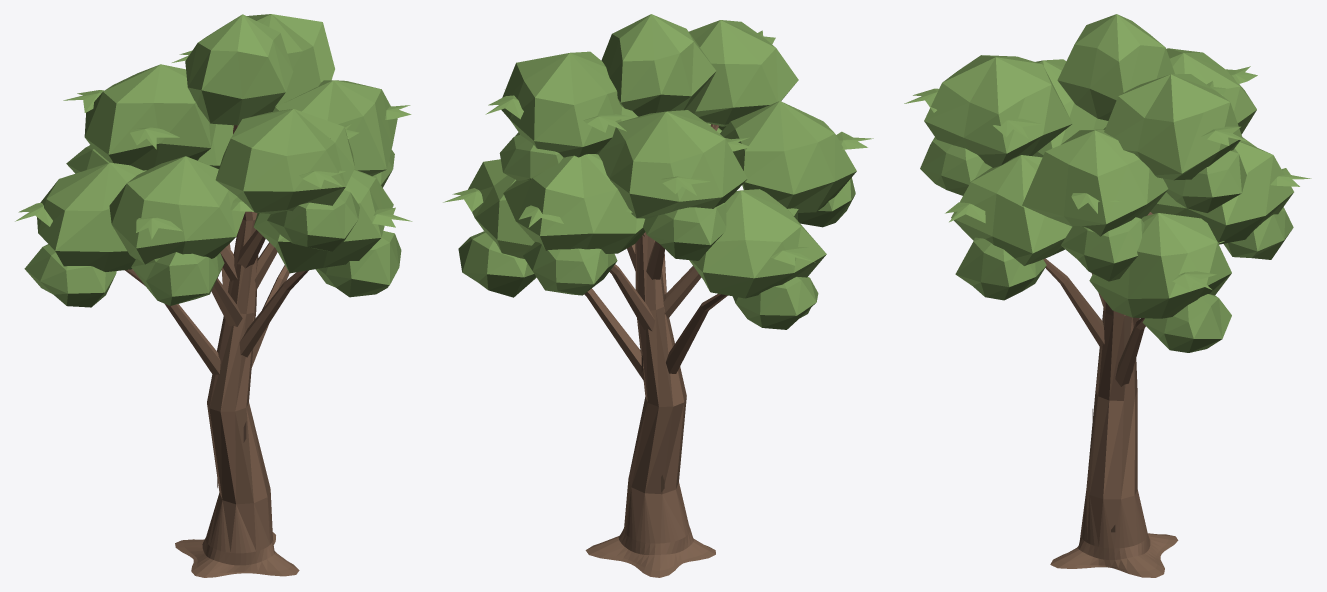
File: maple_spring.glb
The picture shows the model from 3 angles, left to right: view 1: azimuth 30°, elevation 25°; view 2: azimuth 150°, elevation 25°; view 3: azimuth 270°, elevation 25°; orthographic projection.
Visible parts, largest first — view 1: leaves, branches; view 2: leaves, branches; view 3: leaves, branches.
Part boxes in pixels (x1,y1,x2,y2): leaves: (15, 14, 412, 307); branches: (125, 125, 308, 577); leaves: (443, 14, 873, 329); branches: (584, 124, 727, 577); leaves: (904, 14, 1311, 352); branches: (973, 97, 1178, 577).
Size of the model in its own units: 3.3 by 4.7 by 3.23.
